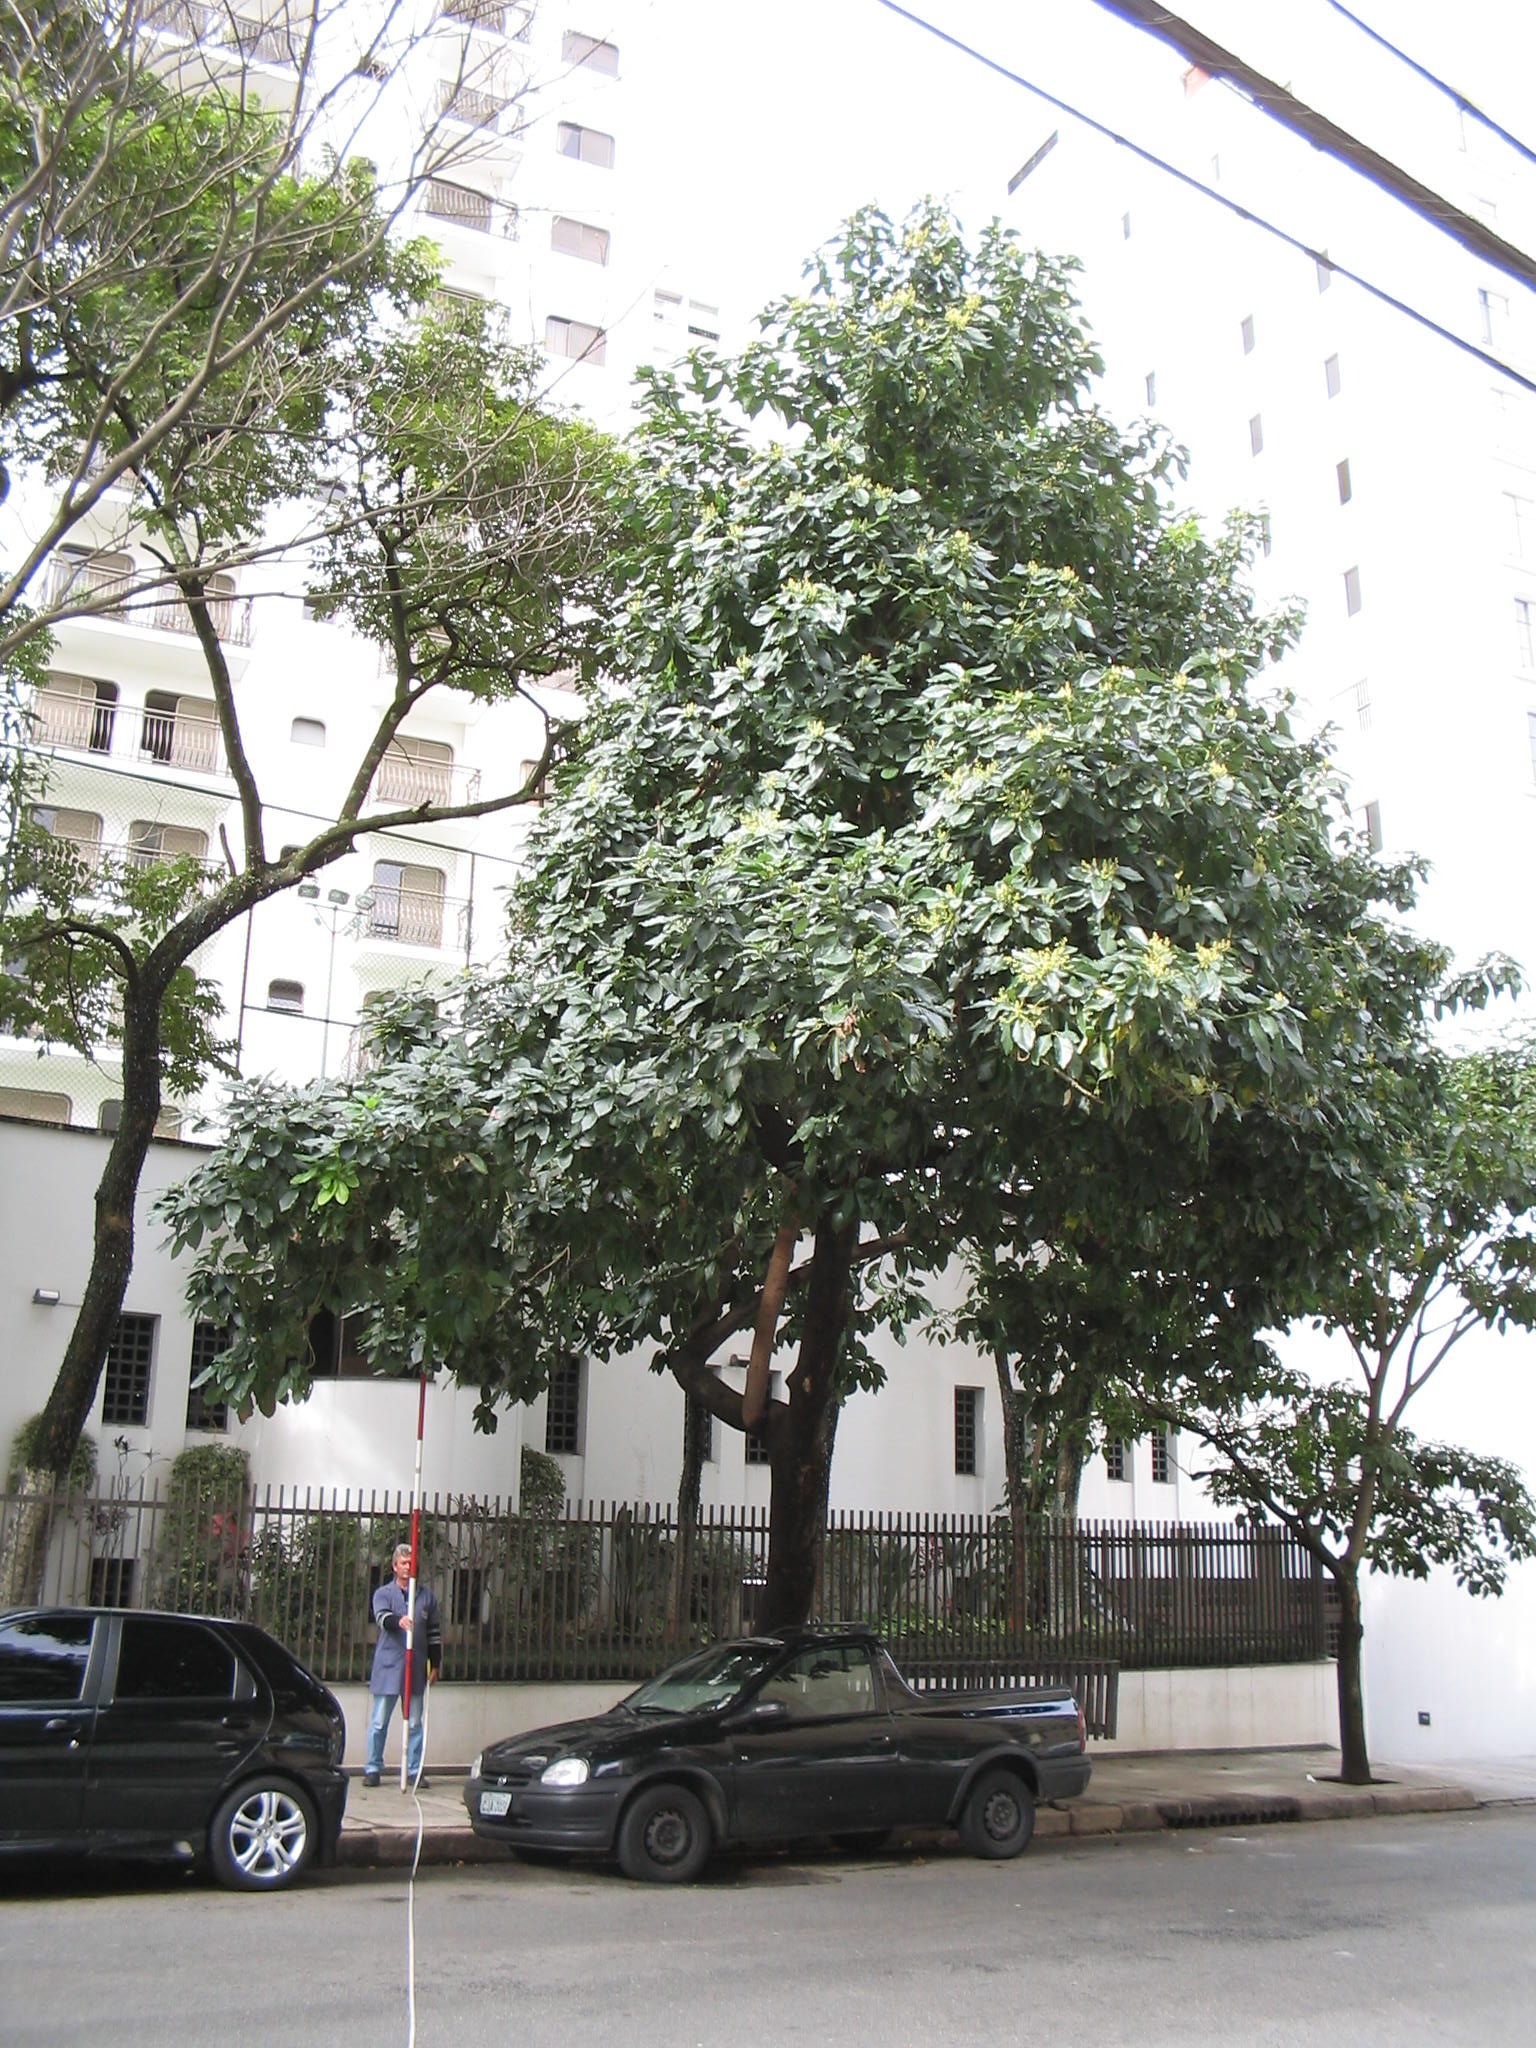crown: (182, 223, 1497, 1417)
stem: (708, 1427, 865, 1788)
stick: (381, 1367, 445, 1788)
tree: (177, 218, 1505, 1796)
